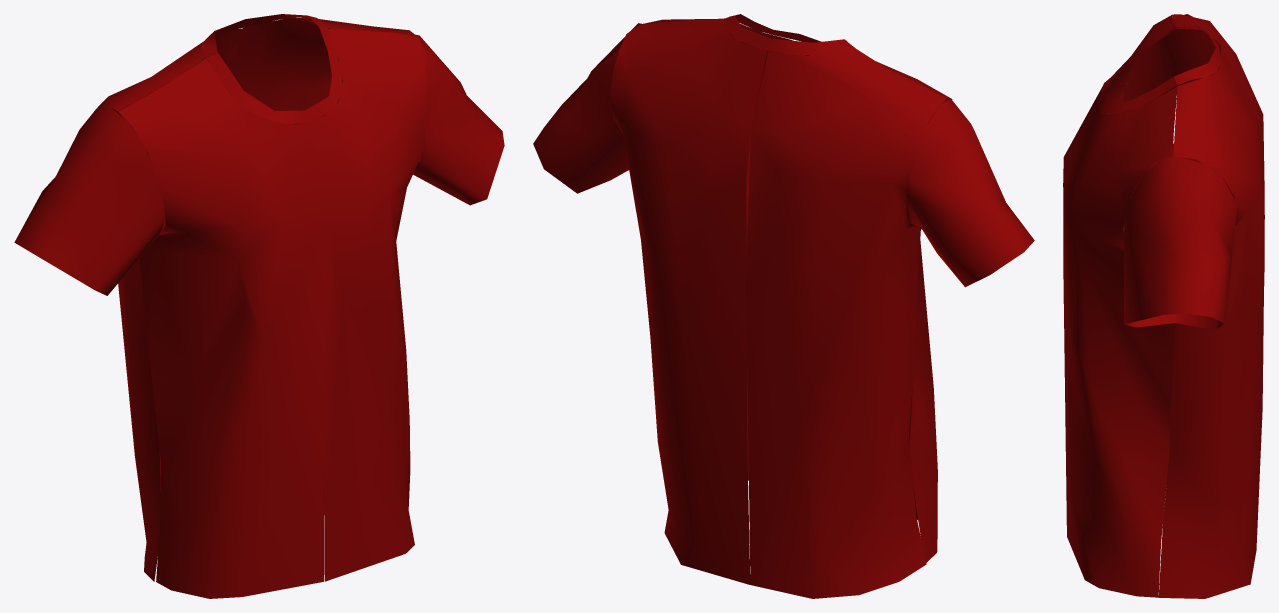
3 views of the same model, side by side, from view 1: azimuth 30°, elevation 25°; view 2: azimuth 150°, elevation 25°; view 3: azimuth 270°, elevation 25° (orthographic). The views are drawn at different scales.
Parts seen in each view (by area): view 1: Object_16; view 2: Object_16; view 3: Object_16.
Boxes of the visible parts, x1,y1,x2,y2 form: Object_16: [14, 14, 504, 598]; Object_16: [533, 14, 1034, 598]; Object_16: [1063, 14, 1264, 598].
Size of what is drawn, in the model's own units: 6.69 by 6.97 by 2.52.
